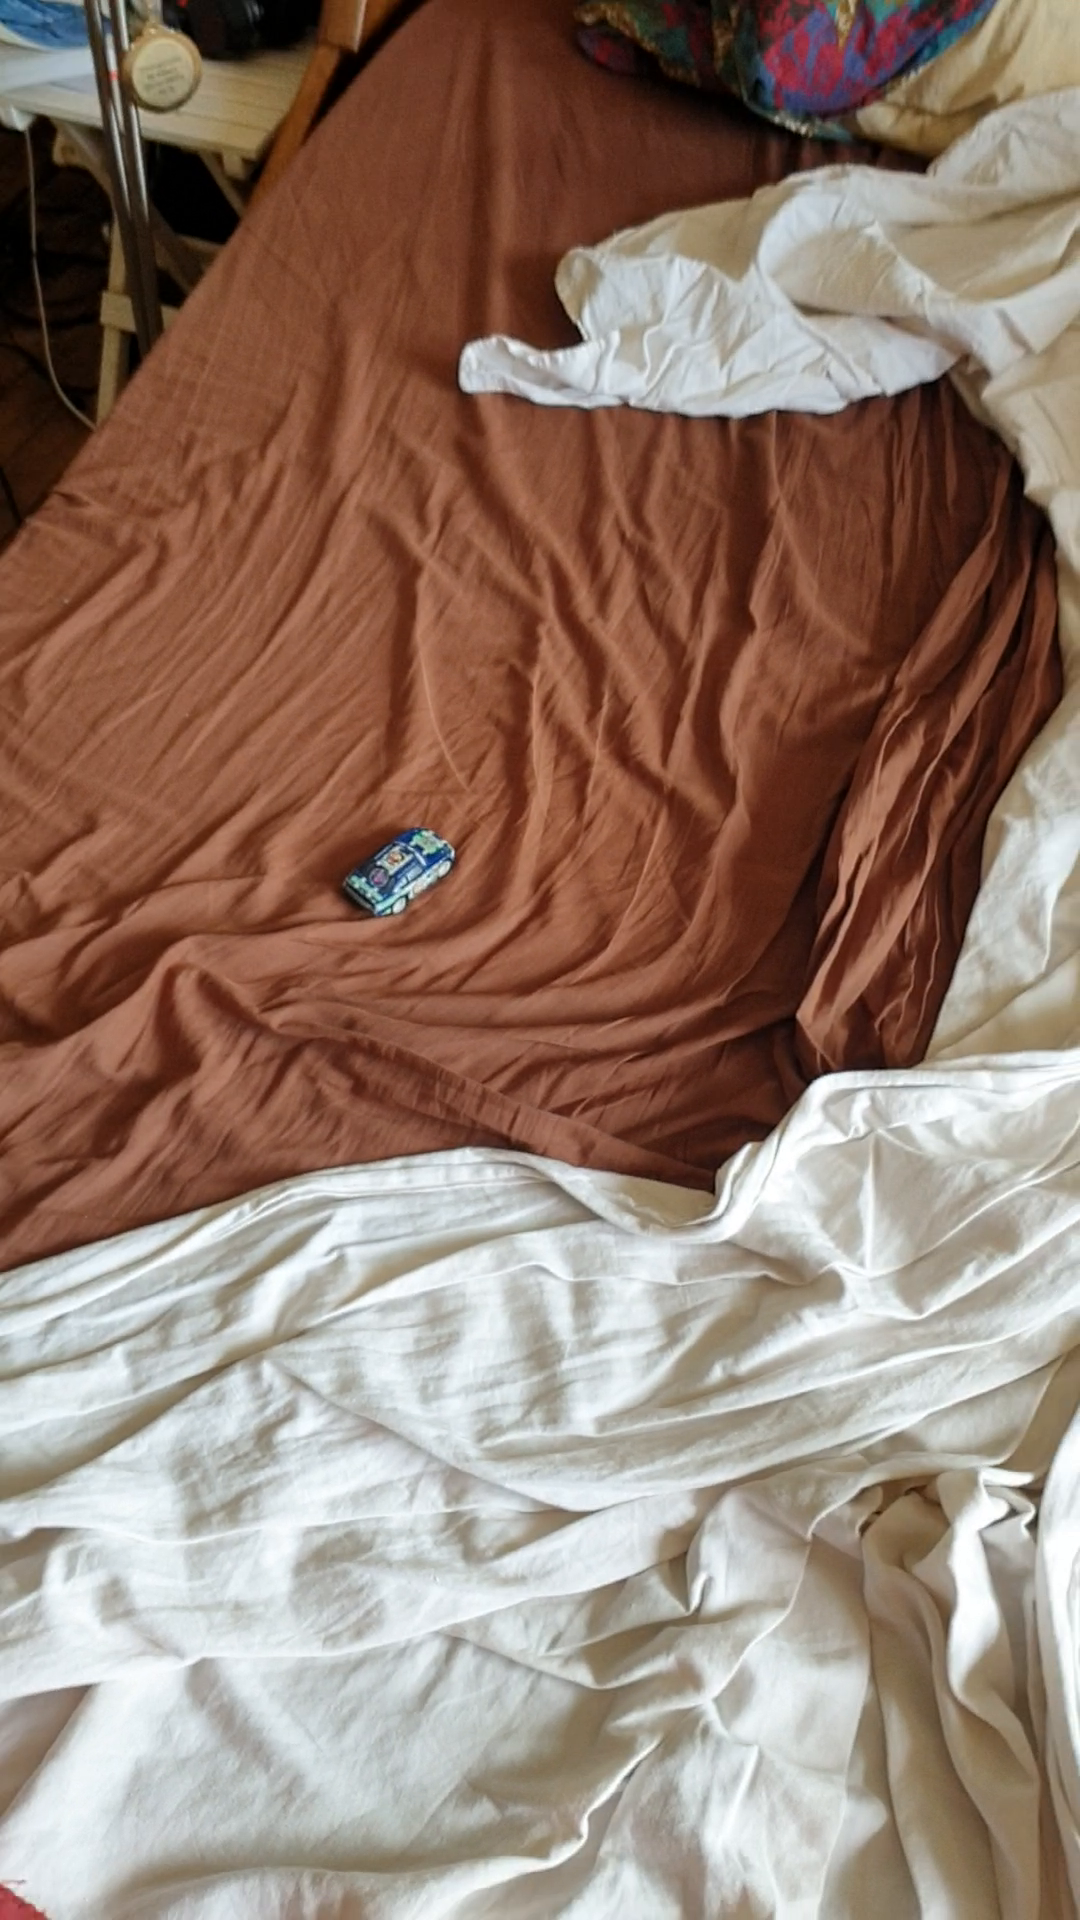cars: (342, 827, 454, 916)
